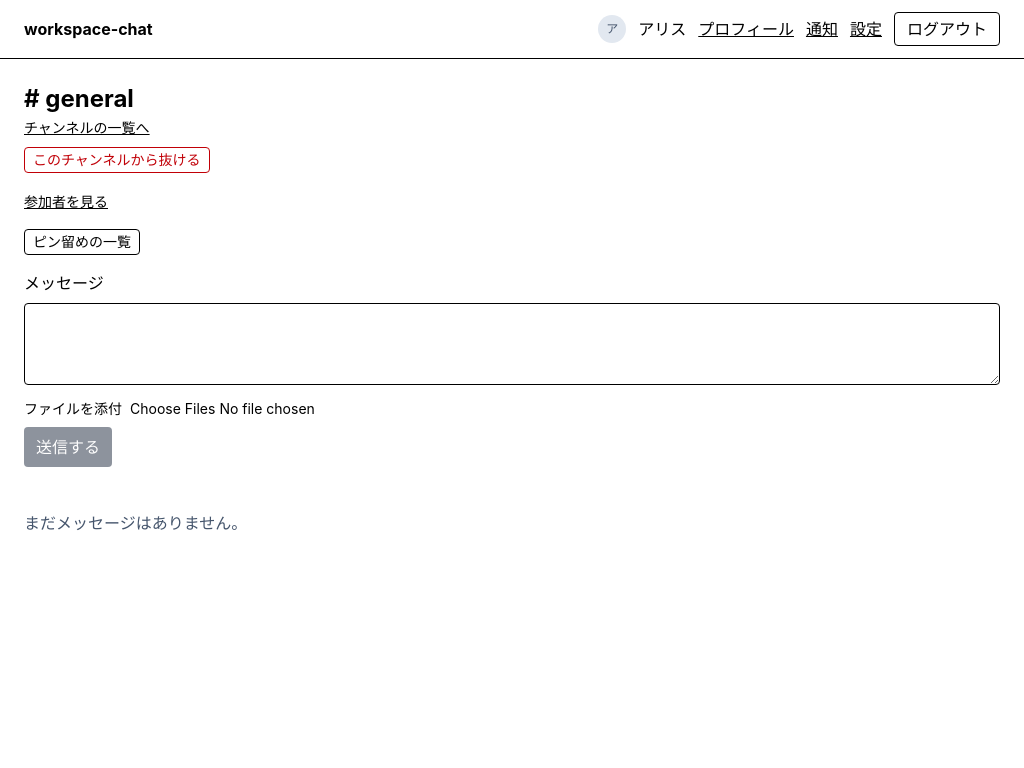
Test: 参加者の在席の表示（F-22） › 5分ごとに入室要求を送り直し、acknowledgement の在席で置き換える。メッセージの一覧は読み直さない
What coordinates should you click on to do the following:
click the button "参加者を見る"
I would click on:
 (66, 202)
Its box is left=24, top=192, right=108, bottom=212.
Wait 300000 ms
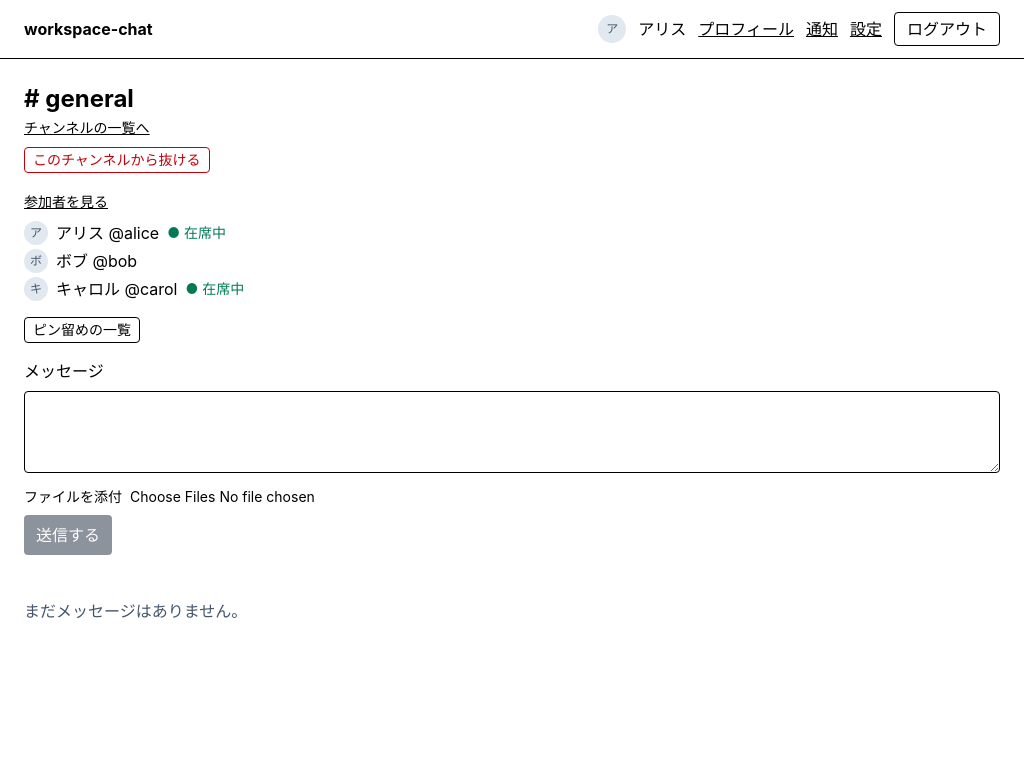
Result: the list named "参加者" is shown at left=24, top=221, right=244, bottom=301
